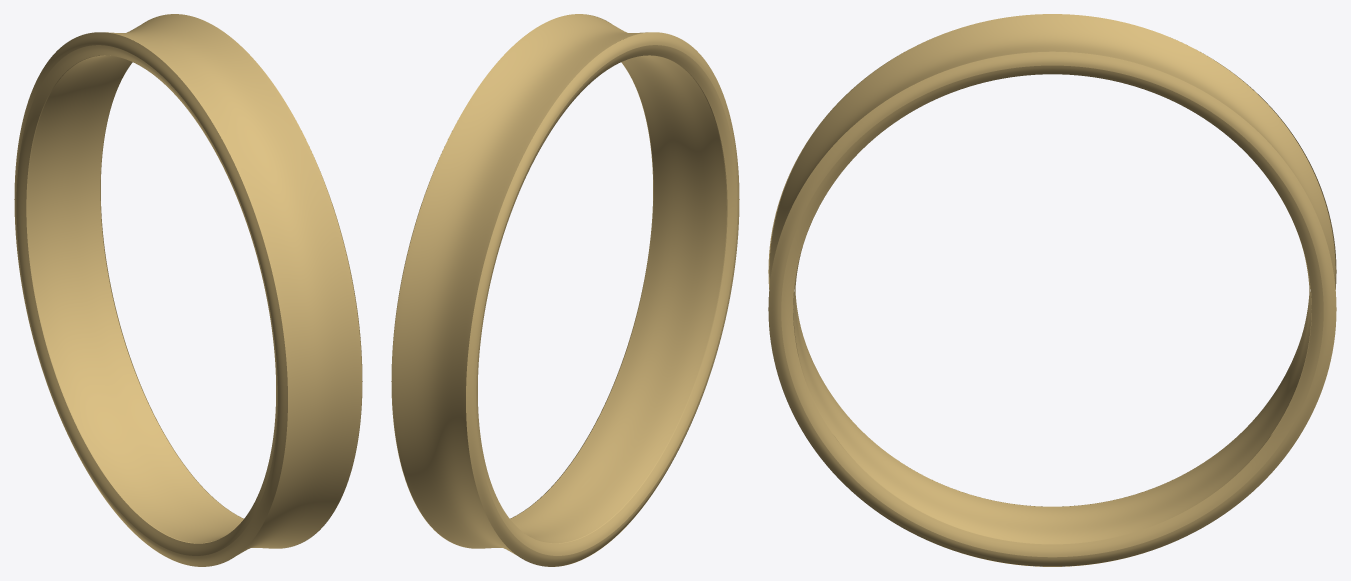
The picture shows the model from 3 angles, left to right: view 1: azimuth 30°, elevation 25°; view 2: azimuth 150°, elevation 25°; view 3: azimuth 270°, elevation 25°; orthographic projection. The views are drawn at different scales.
Visible parts, largest first — view 1: P8-Outer, P8-Inner, P8-Sides; view 2: P8-Outer, P8-Inner, P8-Sides; view 3: P8-Sides, P8-Outer, P8-Inner.
Boxes of the visible parts, x1=… form: P8-Outer: x1=26, y1=14, x2=361, y2=566; P8-Inner: x1=27, y1=52, x2=243, y2=543; P8-Sides: x1=14, y1=20, x2=362, y2=566; P8-Outer: x1=392, y1=14, x2=727, y2=566; P8-Inner: x1=510, y1=52, x2=726, y2=543; P8-Sides: x1=391, y1=20, x2=739, y2=566; P8-Sides: x1=768, y1=52, x2=1336, y2=566; P8-Outer: x1=769, y1=14, x2=1335, y2=566; P8-Inner: x1=793, y1=51, x2=1311, y2=543.
Bounding box in the file's own units: 0.3993 × 2.3 × 2.29.
